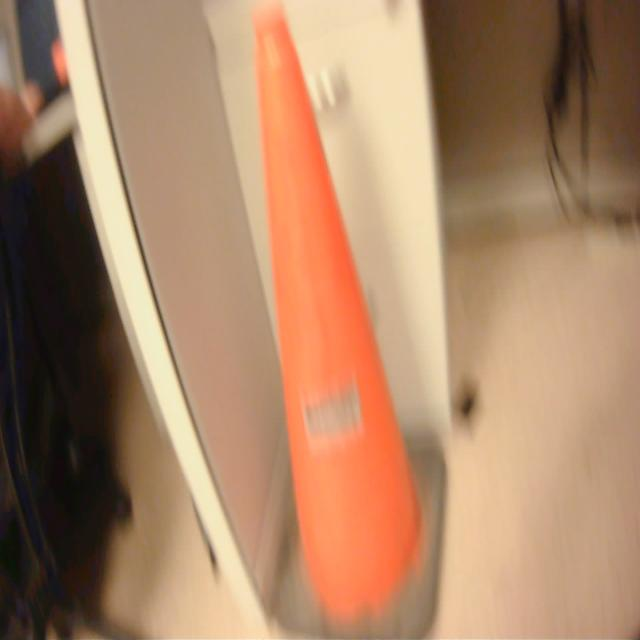traffic cone: (243, 1, 457, 640)
